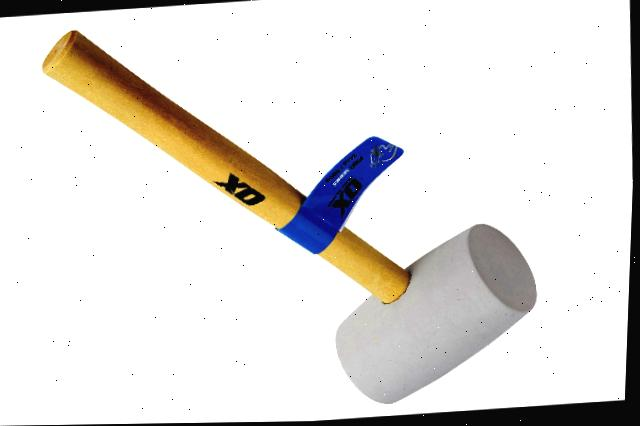hammer: (23, 0, 558, 426)
